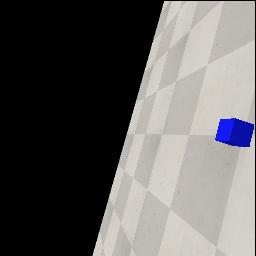box: (215, 118, 254, 147)
